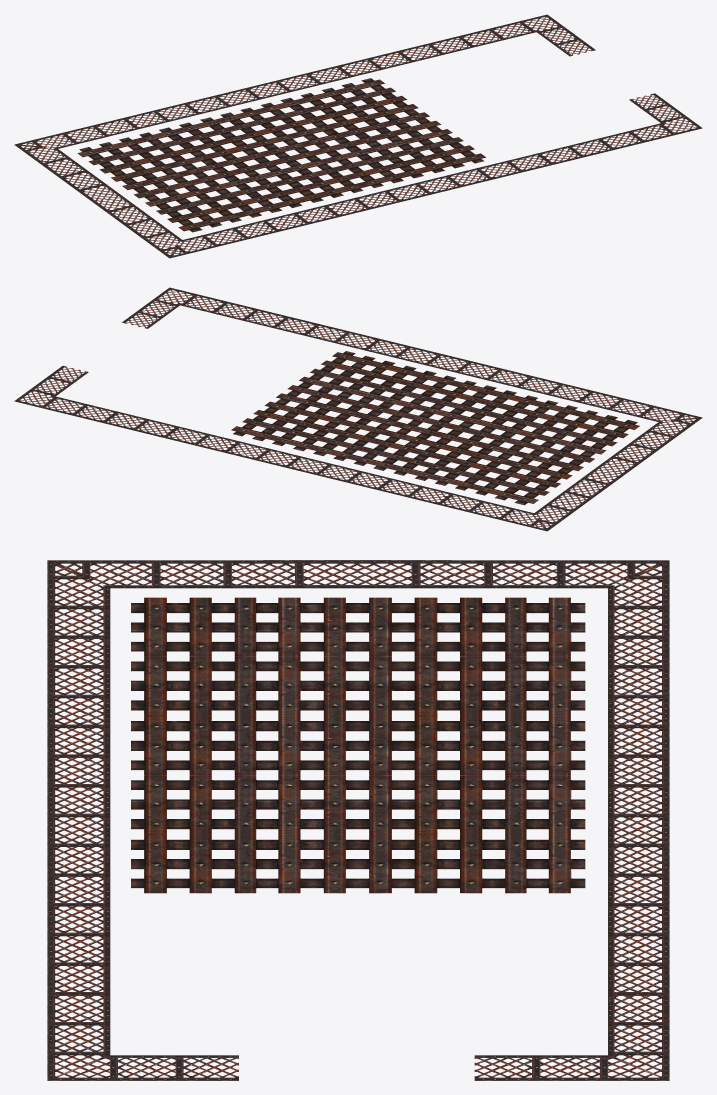
The model's file is rysd_dim_02.FBX.
3 views of the same model, one above another, from view 1: azimuth 30°, elevation 25°; view 2: azimuth 150°, elevation 25°; view 3: azimuth 270°, elevation 25° (orthographic). The views are drawn at different scales.
Visible parts, largest first — view 1: rysd_dim_02; view 2: rysd_dim_02; view 3: rysd_dim_02.
Part boxes in pixels (box(x1,y1,x2,y2)): rysd_dim_02: box(14, 14, 702, 258); rysd_dim_02: box(14, 287, 702, 531); rysd_dim_02: box(47, 560, 669, 1080).
Size of the model in its own units: 2647 by 0.1534 by 1337.
